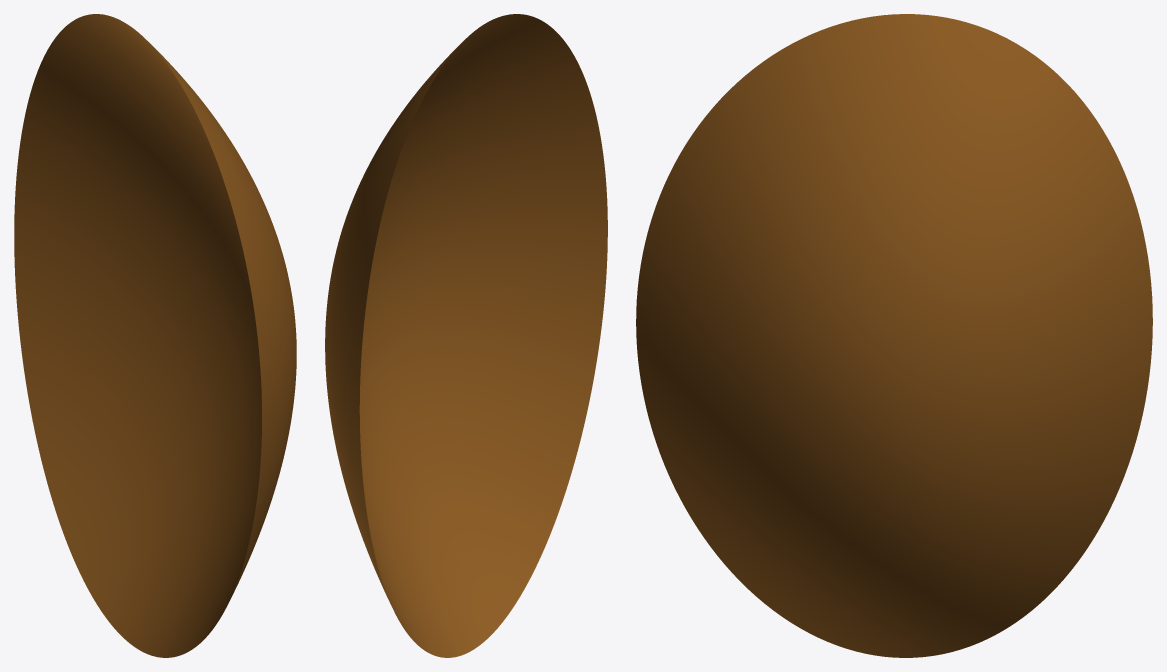
Rendered from SM_Amber_Body.obj.
The picture shows the model from 3 angles, left to right: view 1: azimuth 30°, elevation 25°; view 2: azimuth 150°, elevation 25°; view 3: azimuth 270°, elevation 25°; orthographic projection. The views are drawn at different scales.
Visible parts, largest first — view 1: Body; view 2: Body; view 3: Body.
Part boxes in pixels (<box>): Body: <box>14,14,296,657</box>; Body: <box>325,14,607,657</box>; Body: <box>636,14,1152,657</box>.
Size of the model in its own units: 2.4 by 11 by 8.
